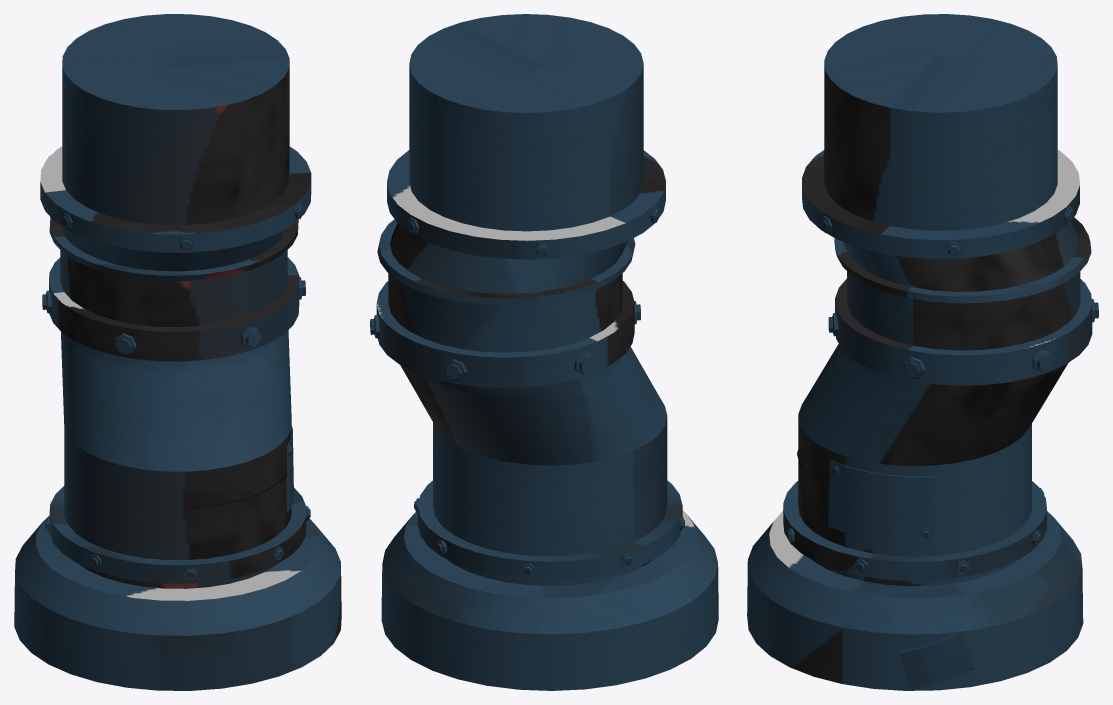
The model's file is M_pipe.fbx.
3 renders of one model, left to right at view 1: azimuth 30°, elevation 25°; view 2: azimuth 150°, elevation 25°; view 3: azimuth 270°, elevation 25°, orthographic. The views are drawn at different scales.
Parts seen in each view (by area): view 1: M_pipe; view 2: M_pipe; view 3: M_pipe.
Boxes of the visible parts, box(x1,y1,x2,y2) form: M_pipe: box(14, 14, 341, 690); M_pipe: box(370, 14, 718, 690); M_pipe: box(747, 14, 1098, 690).
Bounding box in the file's own units: 122 × 223 × 126.
